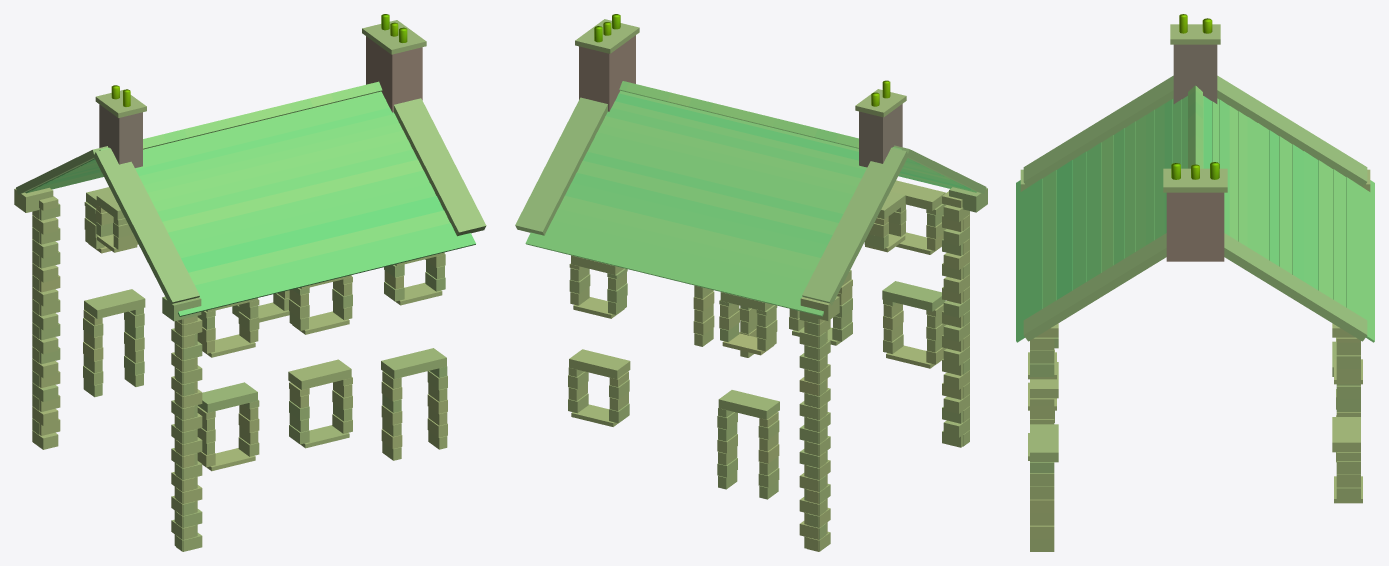
Rendered from SM_Bld_196_Stone.glb.
3 renders of one model, left to right at view 1: azimuth 30°, elevation 25°; view 2: azimuth 150°, elevation 25°; view 3: azimuth 270°, elevation 25°, orthographic. The views are drawn at different scales.
Visible parts, largest first — view 1: SM_Bld_196_Stone; view 2: SM_Bld_196_Stone; view 3: SM_Bld_196_Stone.
Part boxes in pixels (x1=…): SM_Bld_196_Stone: x1=14, y1=14, x2=486, y2=551; SM_Bld_196_Stone: x1=515, y1=14, x2=987, y2=551; SM_Bld_196_Stone: x1=1016, y1=14, x2=1374, y2=551.
Bounding box in the file's own units: 8.34 × 10.2 × 7.44.
